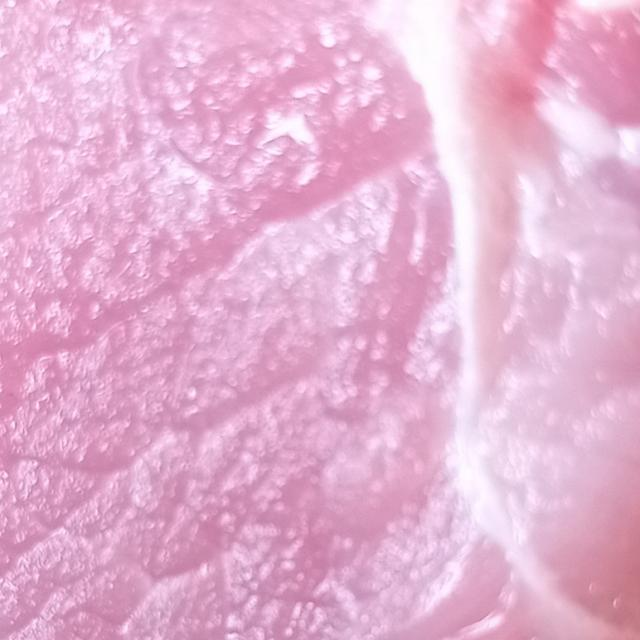pork: (0, 1, 640, 640)
